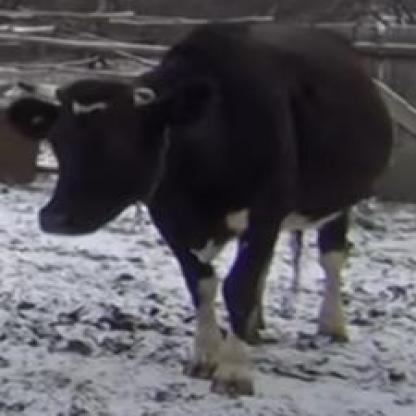cow: (38, 22, 391, 394)
